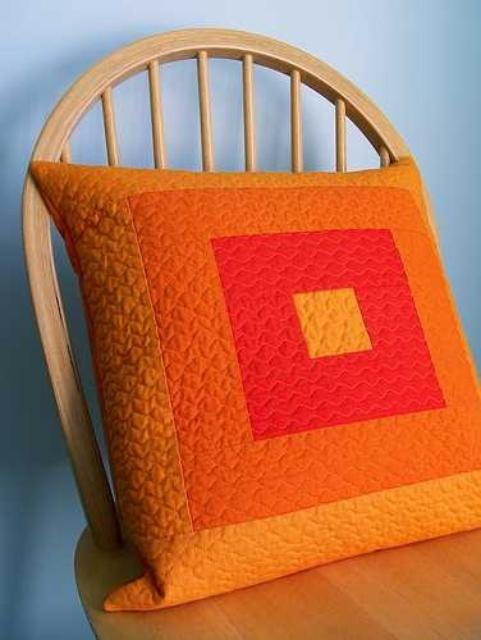pillow: (26, 156, 480, 612)
